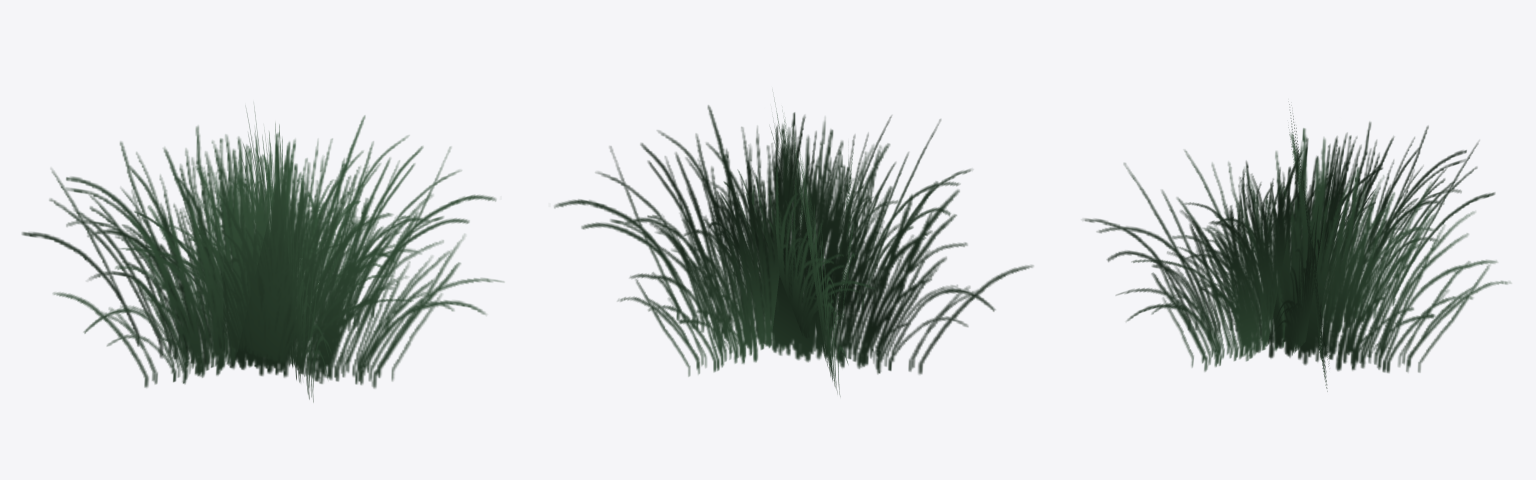
File: grass_medium2.glb
3 renders of one model, left to right at view 1: azimuth 30°, elevation 25°; view 2: azimuth 150°, elevation 25°; view 3: azimuth 270°, elevation 25°, orthographic. The views are drawn at different scales.
Parts seen in each view (by area): view 1: Grass medium 2; view 2: Grass medium 2; view 3: Grass medium 2.
Part boxes in pixels (x1,y1,x2,y2): Grass medium 2: [22, 106, 503, 402]; Grass medium 2: [554, 99, 1033, 396]; Grass medium 2: [1083, 104, 1510, 391].
Bounding box in the file's own units: 0.3851 × 0.2156 × 0.3313.
1 material, 1 textured.
